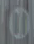Two way: (6, 4, 33, 41)
